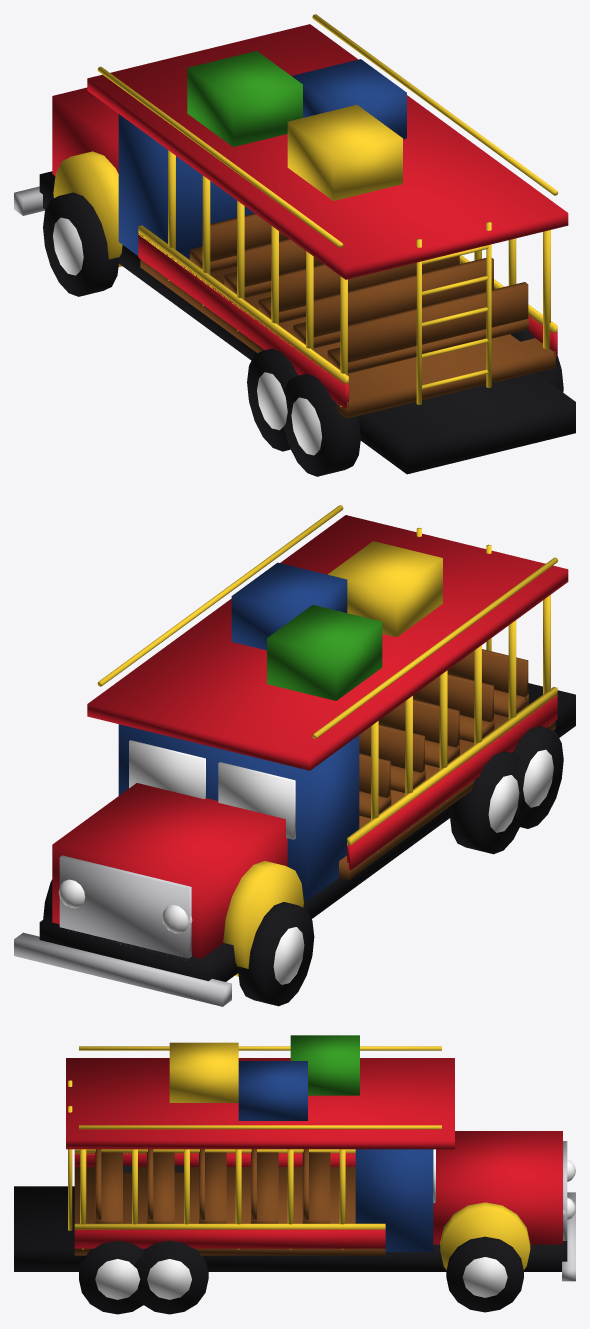
The model's file is chiva-rumbera.glb.
3 views of the same model, one above another, from view 1: azimuth 30°, elevation 25°; view 2: azimuth 150°, elevation 25°; view 3: azimuth 270°, elevation 25° (orthographic). The views are drawn at different scales.
Parts seen in each view (by area): view 1: Cube.021, Cube, Cube.006, Cube.003, Cube.024, Cube.022, Cube.016, Cube.014, Cube.023, Cube.017, Cylinder.029, Cylinder.023 (+24 smaller); view 2: Cube.021, Cube.001, Cube.003, Cube.002, Cube.022, Cube, Cube.024, Cube.023, Cube.025, Cube.017, Cylinder.023, Cylinder (+22 smaller); view 3: Cube.021, Cube.001, Cube, Cube.006, Cube.003, Cube.019, Cube.024, Cube.023, Cube.022, Cylinder.025, Cylinder.001, Cylinder.031 (+27 smaller).
Part boxes in pixels (x1,y1,x2,y2): Cube.021: [87, 24, 568, 279]; Cube: [39, 171, 575, 474]; Cube.006: [140, 258, 555, 418]; Cube.003: [118, 114, 254, 258]; Cube.024: [287, 105, 402, 200]; Cube.022: [187, 51, 302, 146]; Cube.016: [348, 282, 528, 362]; Cube.014: [313, 258, 493, 337]; Cube.023: [292, 59, 406, 139]; Cube.017: [138, 233, 348, 408]; Cylinder.029: [283, 373, 360, 476]; Cylinder.023: [43, 192, 119, 296]; Cube.021: [87, 515, 568, 770]; Cube.001: [52, 783, 287, 958]; Cube.003: [118, 724, 359, 900]; Cube.002: [59, 855, 191, 960]; Cube.022: [267, 605, 382, 700]; Cube: [39, 683, 575, 981]; Cube.024: [328, 541, 442, 637]; Cube.023: [231, 562, 347, 650]; Cube.025: [14, 932, 231, 1006]; Cube.017: [347, 694, 557, 869]; Cylinder.023: [238, 902, 314, 1006]; Cylinder: [223, 861, 303, 976]; Cube.021: [66, 1058, 454, 1149]; Cube.001: [433, 1131, 562, 1244]; Cube: [14, 1186, 567, 1271]; Cube.006: [74, 1167, 385, 1255]; Cube.003: [355, 1149, 433, 1251]; Cube.019: [74, 1229, 385, 1248]; Cube.024: [169, 1042, 238, 1102]; Cube.023: [238, 1061, 307, 1120]; Cube.022: [290, 1035, 359, 1095]; Cylinder.025: [446, 1236, 523, 1312]; Cylinder.001: [440, 1202, 530, 1269]; Cylinder.031: [134, 1240, 208, 1314].
Size of the model in its own units: 2.34 by 2.67 by 6.5.
